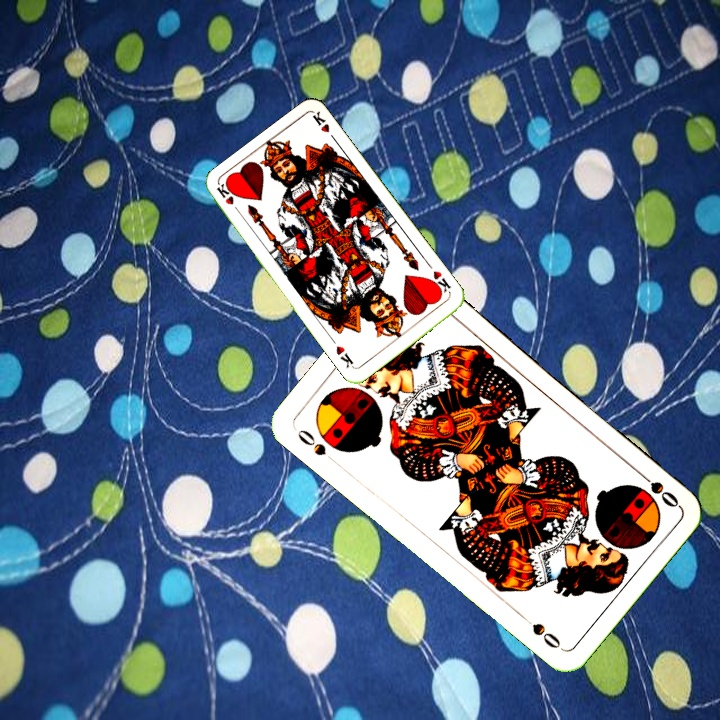HK: (213, 180, 244, 218), (426, 267, 453, 297)
SO: (632, 466, 682, 510), (293, 425, 340, 467)
